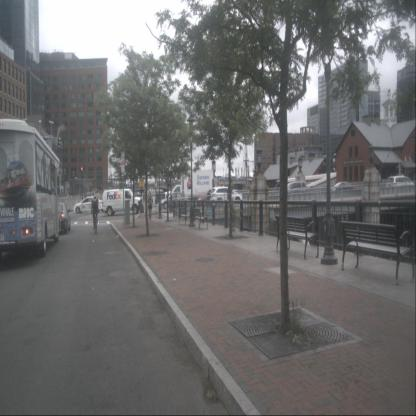human-pedestrian-adult: (148, 192, 153, 221), (207, 189, 212, 211)
vehicle-bicycle: (92, 197, 100, 234)
vehicle-bus-rigid: (0, 118, 61, 257)
vehicle-car: (102, 189, 142, 216), (209, 187, 242, 208), (52, 201, 70, 234), (73, 196, 103, 214), (386, 176, 415, 194), (160, 192, 188, 210), (282, 181, 306, 198), (331, 182, 354, 196)
vehicle-truck: (167, 170, 212, 208)
